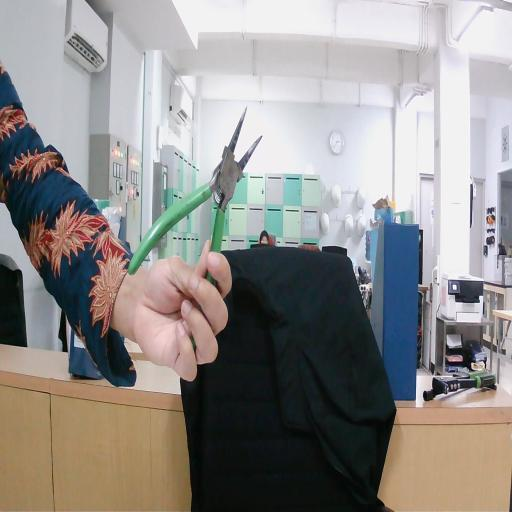tang_scun_hidrolik: (126, 75, 268, 385)
